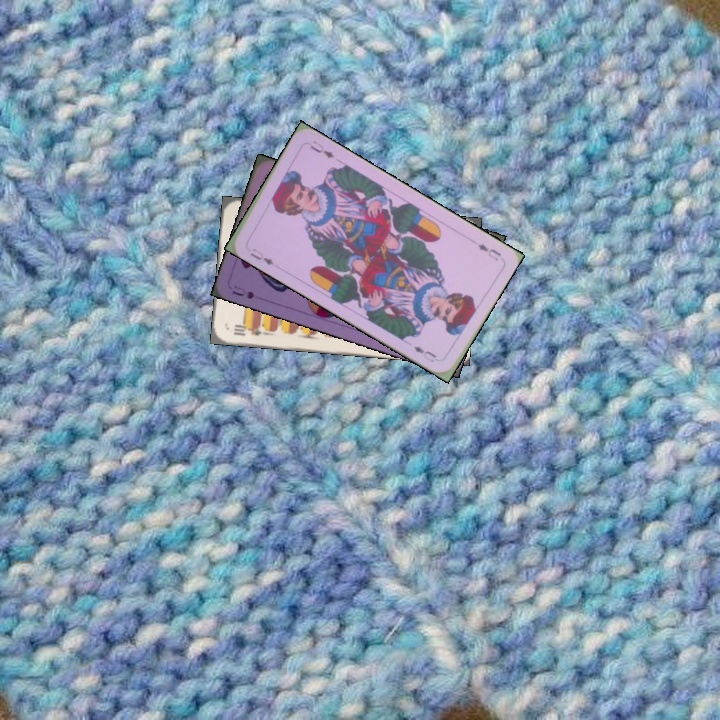E10: (229, 321, 264, 338)
EU: (246, 244, 276, 268), (474, 240, 504, 264)
SU: (228, 281, 257, 302)
